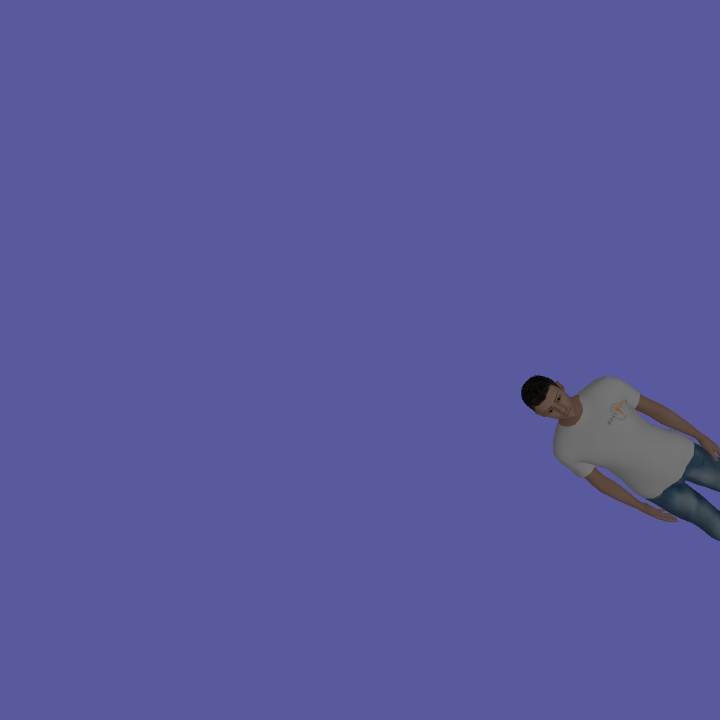victim: (521, 373, 720, 547)
